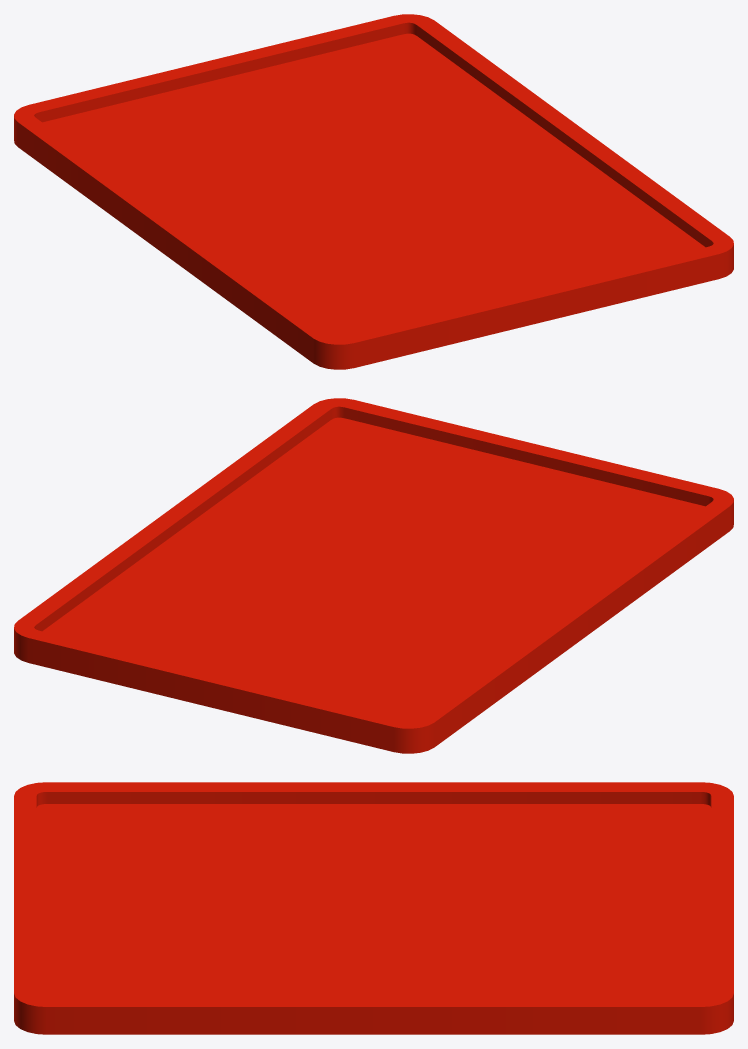
Rendered from Card.fbx.
The picture shows the model from 3 angles, top to bottom: view 1: azimuth 30°, elevation 25°; view 2: azimuth 150°, elevation 25°; view 3: azimuth 270°, elevation 25°; orthographic projection. The views are drawn at different scales.
Visible parts, largest first — view 1: Cube.003; view 2: Cube.003; view 3: Cube.003.
Boxes of the visible parts, left/top/right/bottom form: Cube.003: left=14, top=14, right=733, bottom=369; Cube.003: left=14, top=398, right=733, bottom=753; Cube.003: left=14, top=782, right=733, bottom=1034.
Bounding box in the file's own units: 2 × 2.71 × 0.1148.
